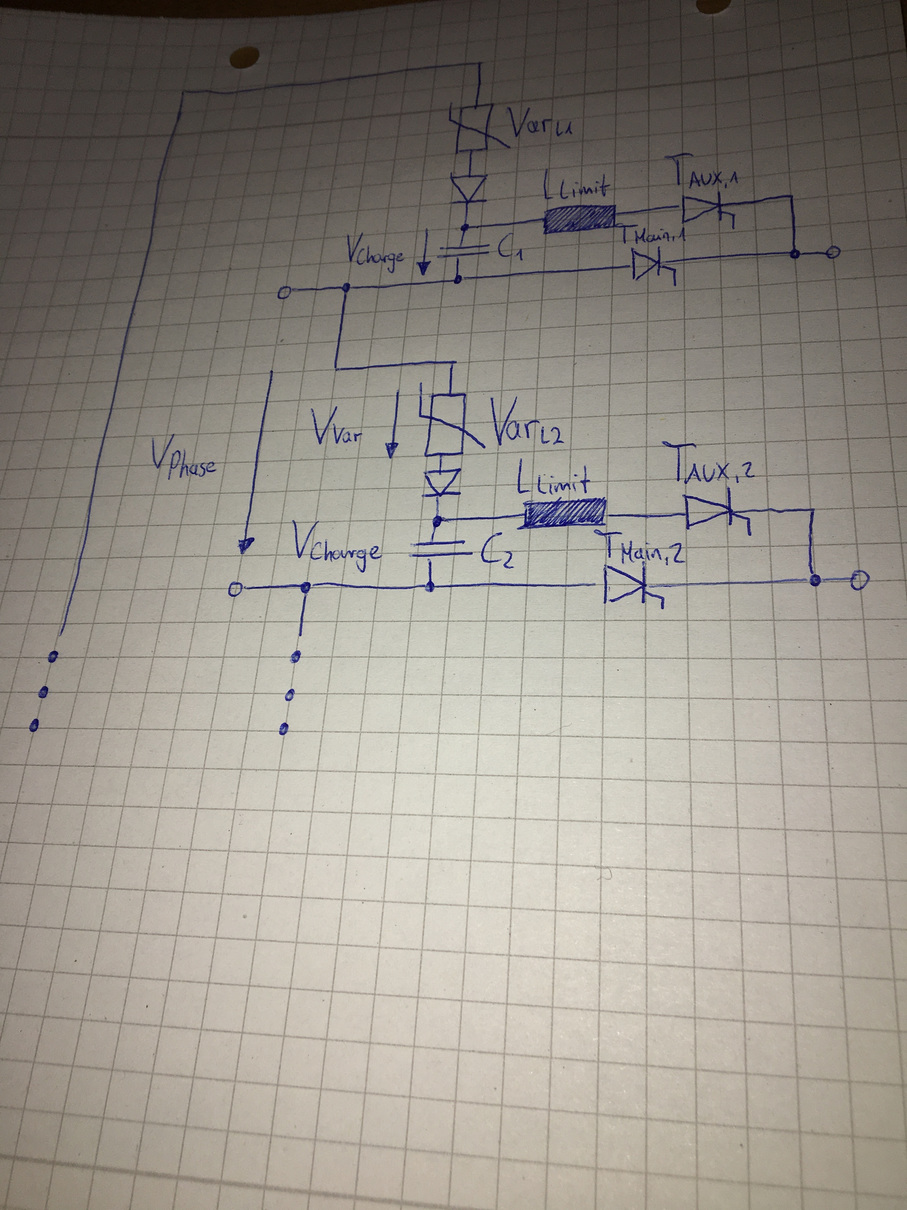capacitor.unpolarized: (408, 538, 476, 563), (435, 243, 492, 261)
diode: (448, 170, 490, 206), (420, 466, 465, 499)
inductor: (515, 496, 609, 531), (541, 203, 621, 235)
junction: (804, 571, 826, 588), (297, 580, 317, 597), (430, 514, 449, 531), (422, 578, 440, 595), (788, 246, 803, 262), (339, 281, 354, 294), (452, 272, 467, 285), (458, 221, 472, 233), (447, 358, 460, 368), (475, 58, 486, 69), (178, 87, 189, 97), (787, 192, 798, 201), (807, 505, 818, 514), (331, 364, 340, 373)
terminal: (46, 631, 66, 665), (847, 566, 872, 593), (287, 633, 305, 667), (225, 578, 252, 598), (823, 243, 843, 261), (275, 283, 295, 301)
text: (290, 517, 384, 575), (659, 438, 757, 485), (488, 395, 566, 447), (592, 527, 688, 568), (149, 431, 220, 483), (516, 455, 592, 497), (662, 151, 740, 190), (343, 231, 406, 275), (541, 166, 612, 202), (308, 405, 365, 447), (505, 104, 575, 138), (613, 222, 688, 245), (479, 530, 518, 571), (496, 230, 526, 263)
thyristor: (594, 560, 668, 609), (681, 486, 753, 532), (675, 190, 739, 225), (627, 245, 679, 282)
varistor: (416, 380, 487, 460), (447, 99, 512, 155)
